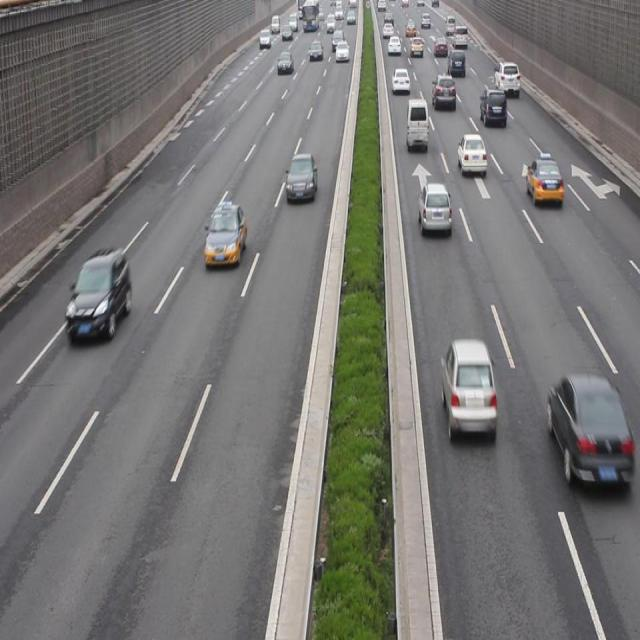car: (545, 373, 626, 491), (439, 336, 496, 444), (65, 249, 130, 342), (204, 203, 247, 269), (525, 156, 563, 208), (417, 184, 451, 238), (285, 154, 317, 205), (457, 136, 487, 179), (478, 86, 505, 130)
truck: (405, 100, 427, 152)
